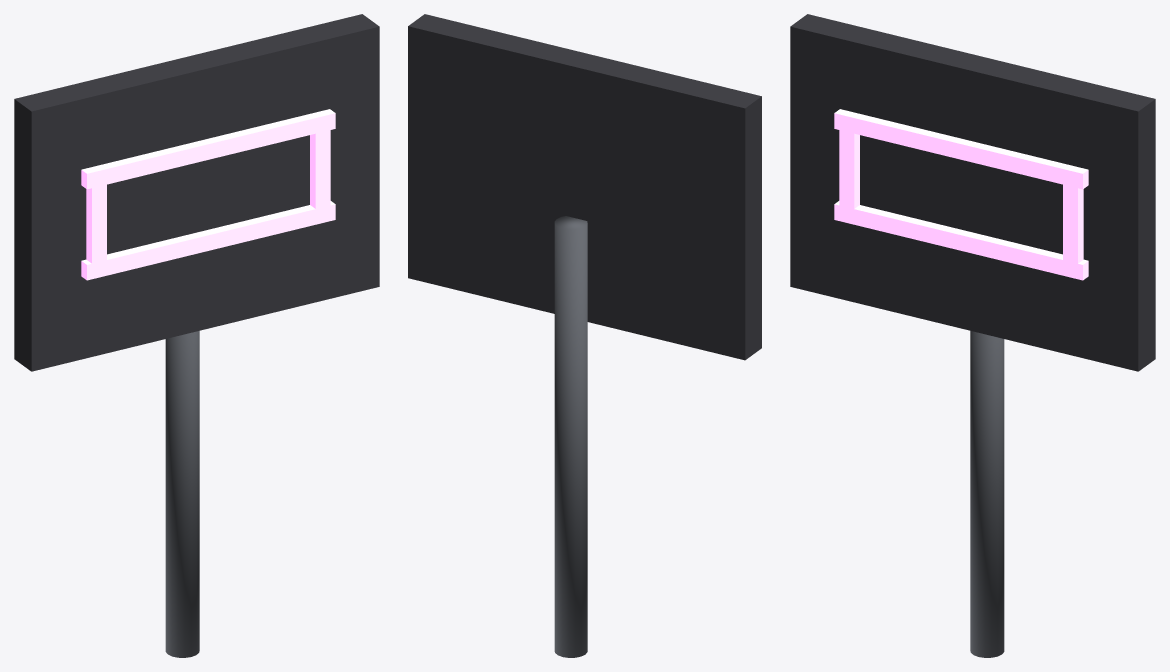
The model's file is prop_kanban_neon_m.glb.
3 renders of one model, left to right at view 1: azimuth 30°, elevation 25°; view 2: azimuth 150°, elevation 25°; view 3: azimuth 330°, elevation 25°, orthographic. The views are drawn at different scales.
Parts seen in each view (by area): view 1: kanban_neon_m; view 2: kanban_neon_m; view 3: kanban_neon_m.
Boxes of the visible parts, bbox=[...] form: kanban_neon_m: bbox=[14, 14, 379, 657]; kanban_neon_m: bbox=[408, 14, 761, 657]; kanban_neon_m: bbox=[790, 14, 1155, 657].
Size of the model in its own units: 1.4 by 2.3 by 0.26.
